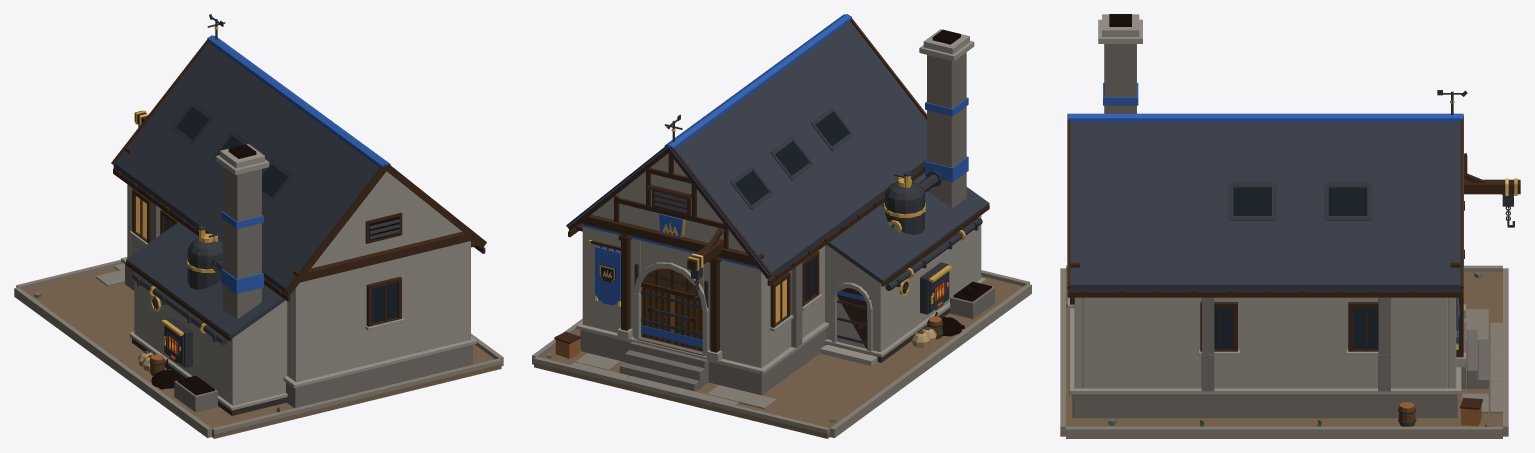
Rendered from 蒸汽车坊_手游_近.glb.
3 renders of one model, left to right at view 1: azimuth 30°, elevation 25°; view 2: azimuth 150°, elevation 25°; view 3: azimuth 270°, elevation 25°, orthographic. The views are drawn at different scales.
Parts seen in each view (by area): view 1: SW-主体, SW-自发光, SW-team; view 2: SW-主体, SW-team, SW-自发光; view 3: SW-主体, SW-team, SW-自发光.
Part boxes in pixels (bbox=[...]): SW-主体: bbox=[14, 14, 503, 438]; SW-自发光: bbox=[136, 106, 399, 395]; SW-team: bbox=[207, 35, 390, 339]; SW-主体: bbox=[532, 18, 1031, 438]; SW-team: bbox=[568, 14, 968, 347]; SW-自发光: bbox=[599, 29, 991, 336]; SW-主体: bbox=[1060, 14, 1520, 438]; SW-team: bbox=[1067, 83, 1463, 344]; SW-自发光: bbox=[1109, 14, 1458, 349].
Size of the model in its own units: 12.16 by 10.04 by 14.48.
4 materials, 2 textured.
